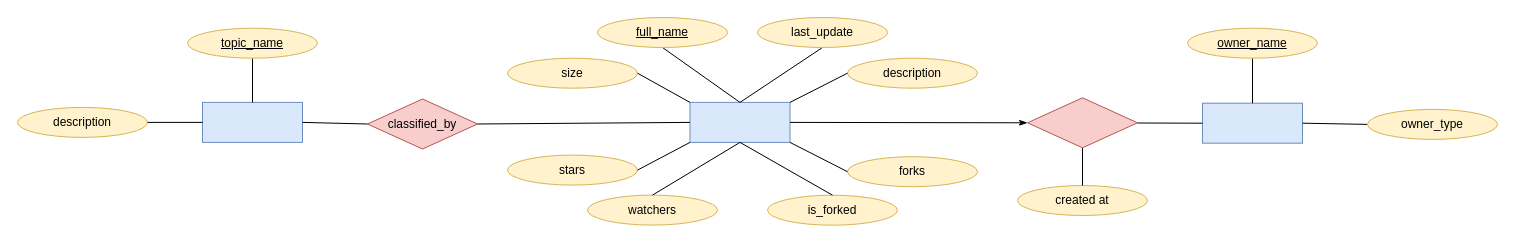
Image size: 1515x243. Some labels were removed from this diagram. The shapes that lost their labels are listed below. From the top down, each one's centre as x and y in pixels, then its label:
At point 252,121: "topics".
At point 739,121: "repositories".
At point 1082,122: "created_by".
At point 1252,122: "owner".
